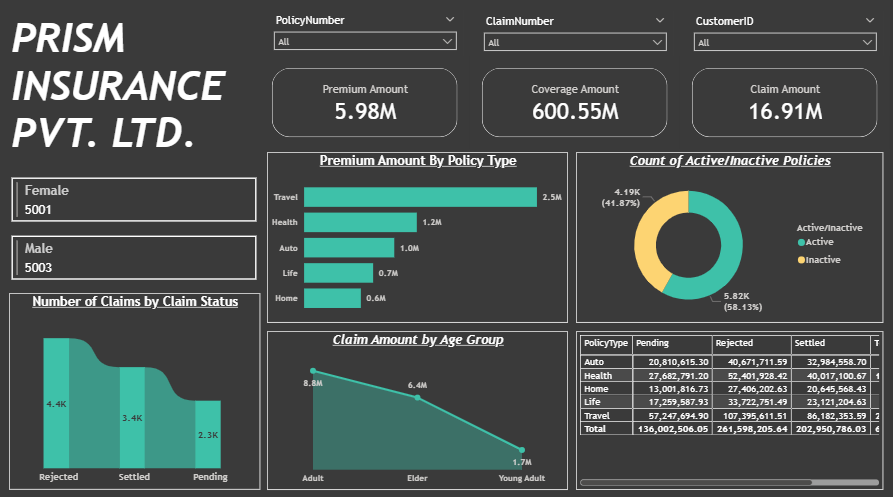

The dashboard page shown, as its layout file describes it:
{"tool":"powerbi","page":{"name":"Page 1","canvas":[1280,720],"ordinal":0},"visuals":[{"type":"slicer","fields":{"Values":["InsuranceData.PolicyNumber"]},"box":[385.5,15.6,280.6,78],"z":0},{"type":"slicer","fields":{"Values":["InsuranceData.ClaimNumber"]},"box":[686,17,280.6,78],"z":1000},{"type":"slicer","fields":{"Values":["InsuranceData.CustomerID"]},"box":[985,17,280.6,78],"z":2000},{"type":"textbox","box":[15.1,15.1,369.6,300.7],"z":3000},{"type":"cardVisual","fields":{"Data":["Sum(InsuranceData.PremiumAmount)"]},"box":[375.6,80.8,299.1,133.2],"z":4000},{"type":"cardVisual","fields":{"Data":["Sum(InsuranceData.CoverageAmount)"]},"box":[676.1,80.8,299.1,133.2],"z":5000},{"type":"cardVisual","fields":{"Data":["Sum(InsuranceData.ClaimAmount)"]},"box":[975.1,80.8,299.1,133.2],"z":6000},{"type":"multiRowCard","fields":{"Values":["InsuranceData.Gender","CountNonNull(InsuranceData.Gender)"]},"box":[15.7,250,360,194.3],"z":7000},{"type":"ribbonChart","title":"Number of Claims by Claim Status","fields":{"Category":["InsuranceData.ClaimStatus"],"Y":["CountNonNull(InsuranceData.ClaimStatus)"]},"box":[17.1,420,358.6,281.4],"z":8000},{"type":"barChart","title":"Premium Amount By Policy Type","fields":{"Category":["InsuranceData.PolicyType"],"Y":["Sum(InsuranceData.PremiumAmount)"]},"box":[385.7,218.6,430,244.3],"z":9000},{"type":"lineChart","title":"Claim Amount by Age Group","fields":{"Category":["InsuranceData.Age Group"],"Y":["Sum(InsuranceData.ClaimAmount)"]},"box":[385.7,474.3,430,227.1],"z":10000},{"type":"donutChart","title":"Count of Active/Inactive Policies","fields":{"Y":["CountNonNull(InsuranceData.Active/Inactive)"],"Category":["InsuranceData.Active/Inactive"]},"box":[827.1,218.6,438.6,244.3],"z":11000},{"type":"pivotTable","fields":{"Rows":["InsuranceData.PolicyType"],"Values":["Sum(InsuranceData.CoverageAmount)"],"Columns":["InsuranceData.ClaimStatus"]},"box":[827,474,439,227],"z":12000}]}

Visuals, with their boxes in screenshot pixels (x1, y1, x2, y2), scaled from the page's 1280x720 canvas onto the 893x497 screenshot:
slicer - InsuranceData.PolicyNumber: 269,11,465,65
slicer - InsuranceData.ClaimNumber: 479,12,674,66
slicer - InsuranceData.CustomerID: 687,12,883,66
textbox: 11,10,268,218
cardVisual - Sum(InsuranceData.PremiumAmount): 262,56,471,148
cardVisual - Sum(InsuranceData.CoverageAmount): 472,56,680,148
cardVisual - Sum(InsuranceData.ClaimAmount): 680,56,889,148
multiRowCard - InsuranceData.Gender x CountNonNull(InsuranceData.Gender): 11,173,262,307
"Number of Claims by Claim Status" ribbonChart: 12,290,262,484
"Premium Amount By Policy Type" barChart: 269,151,569,320
"Claim Amount by Age Group" lineChart: 269,327,569,484
"Count of Active/Inactive Policies" donutChart: 577,151,883,320
pivotTable - InsuranceData.PolicyType x Sum(InsuranceData.CoverageAmount): 577,327,883,484
